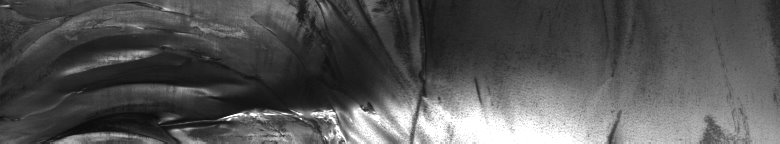ke: (4, 4, 482, 136)
